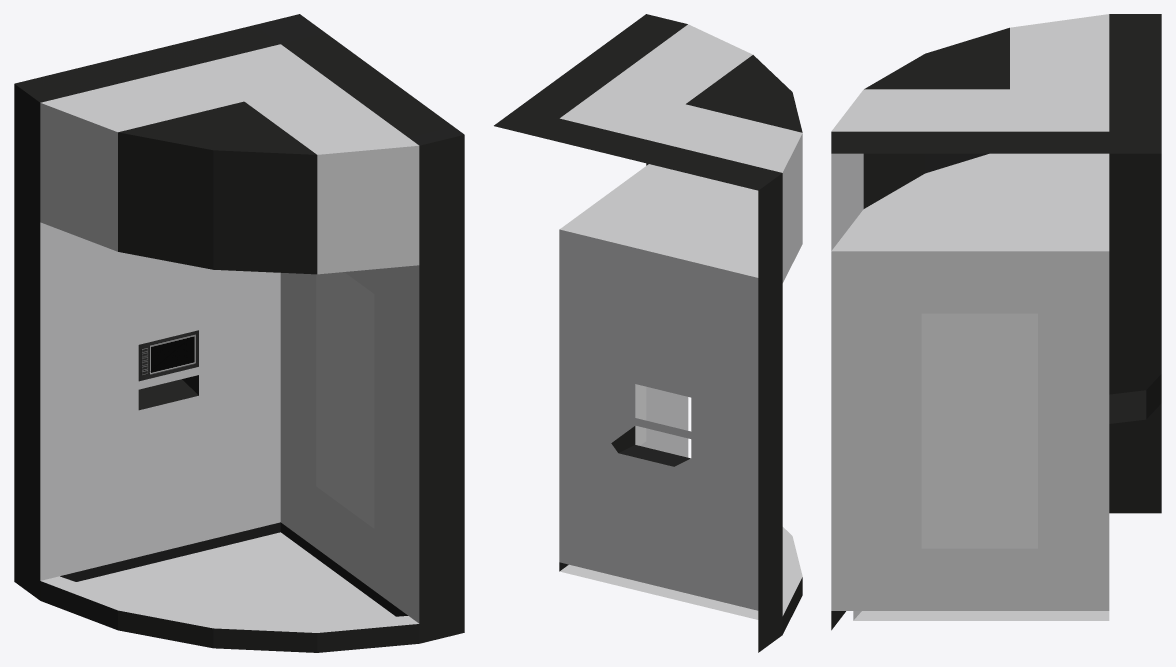
File: Bath_Chamber_L.fbx
3 views of the same model, side by side, from view 1: azimuth 30°, elevation 25°; view 2: azimuth 150°, elevation 25°; view 3: azimuth 270°, elevation 25° (orthographic). The views are drawn at different scales.
Visible parts, largest first — view 1: Bath_Chamber_L; view 2: Bath_Chamber_L; view 3: Bath_Chamber_L.
Part boxes in pixels (<box>): Bath_Chamber_L: <box>14,14,464,652</box>; Bath_Chamber_L: <box>494,14,802,652</box>; Bath_Chamber_L: <box>831,14,1161,630</box>.
Size of the model in its own units: 3 by 3 by 5.
